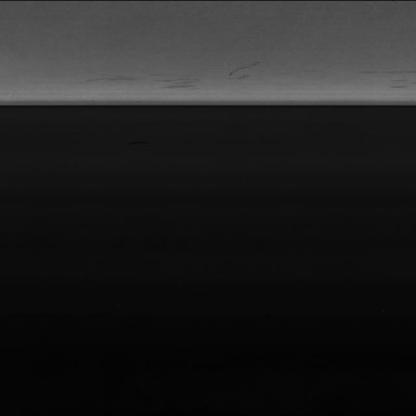water_spot: (77, 68, 233, 92)
